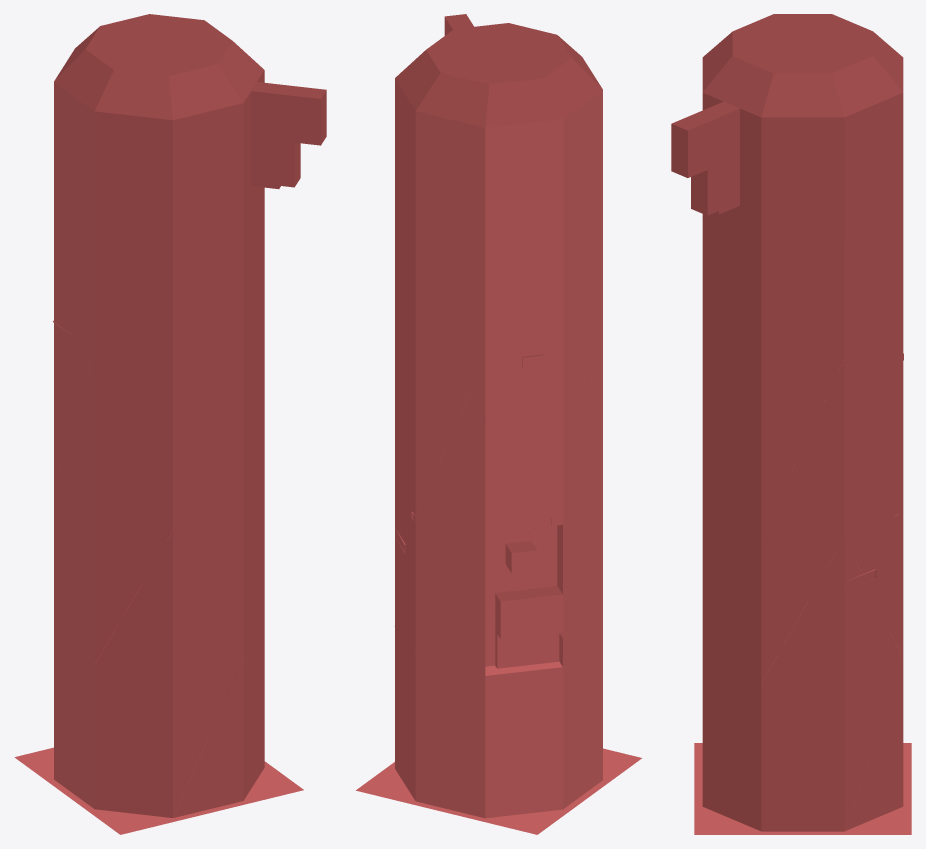
The model's file is clock_tower.glb.
The picture shows the model from 3 angles, left to right: view 1: azimuth 30°, elevation 25°; view 2: azimuth 150°, elevation 25°; view 3: azimuth 270°, elevation 25°; orthographic projection. The views are drawn at different scales.
Visible parts, largest first — view 1: clock_tower_col; view 2: clock_tower_col; view 3: clock_tower_col.
Part boxes in pixels (x1,y1,x2,y2): clock_tower_col: (14,14,326,834); clock_tower_col: (356,14,641,834); clock_tower_col: (671,14,911,834).
Bounding box in the file's own units: 4.86 × 16.65 × 4.86.
